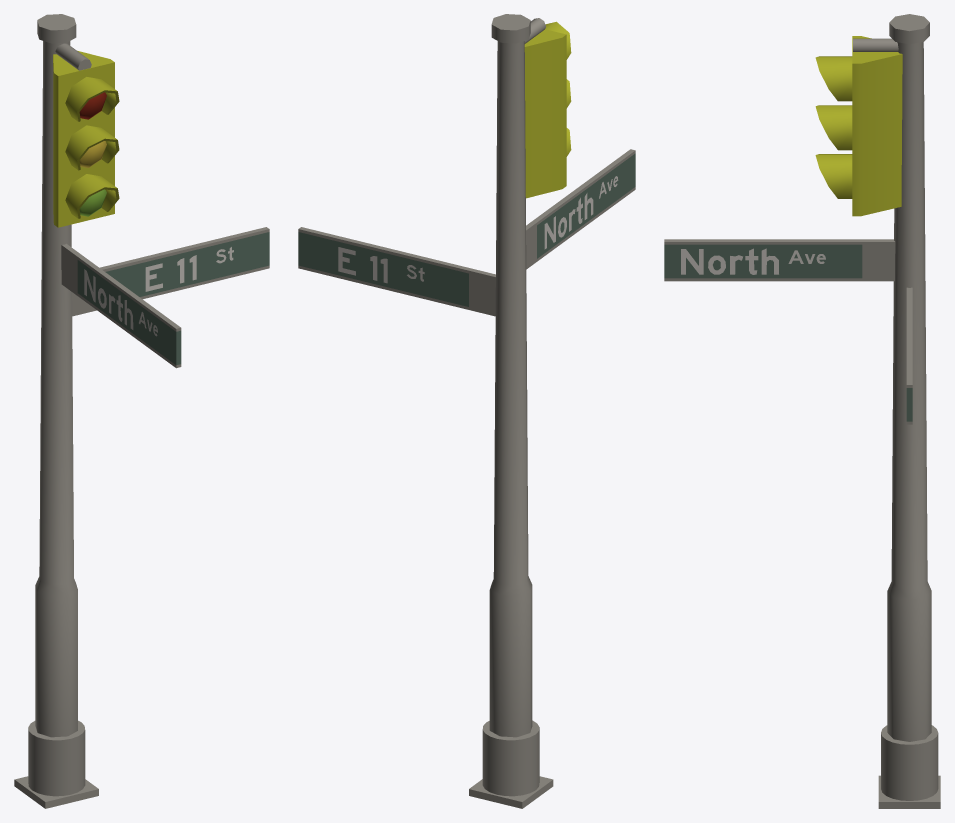
File: q-traffic-light-apwcpbwhlq.glb
The picture shows the model from 3 angles, left to right: view 1: azimuth 30°, elevation 25°; view 2: azimuth 150°, elevation 25°; view 3: azimuth 270°, elevation 25°; orthographic projection.
Parts seen in each view (by area): view 1: TrafficLight_1; view 2: TrafficLight_1; view 3: TrafficLight_1.
Boxes of the visible parts, x1,y1,x2,y2 form: TrafficLight_1: (14,14,269,808); TrafficLight_1: (298,14,635,808); TrafficLight_1: (664,14,940,808).
Size of the model in its own units: 1.51 by 4.66 by 1.51.
1 material, 1 textured.
